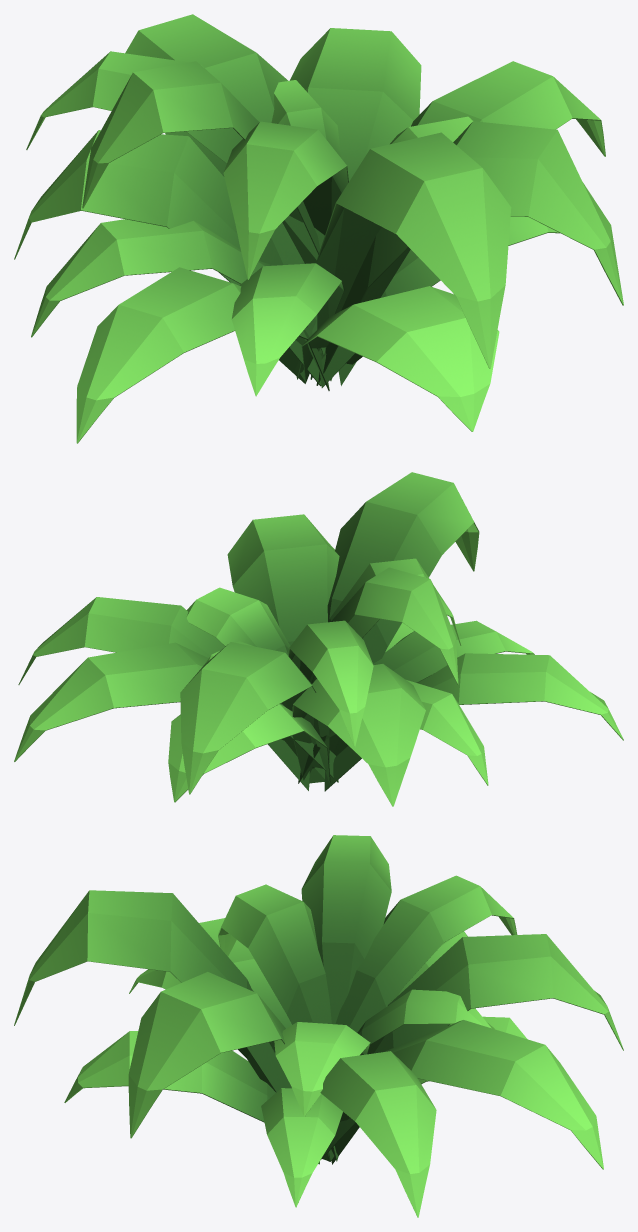
The model's file is MoitaGrande.fbx.
The picture shows the model from 3 angles, top to bottom: view 1: azimuth 30°, elevation 25°; view 2: azimuth 150°, elevation 25°; view 3: azimuth 270°, elevation 25°; orthographic projection. The views are drawn at different scales.
Visible parts, largest first — view 1: MoitaGrande; view 2: MoitaGrande; view 3: MoitaGrande.
Boxes of the visible parts, x1,y1,x2,y2 form: MoitaGrande: (14,14,623,443); MoitaGrande: (14,472,623,806); MoitaGrande: (14,835,623,1217).
Bounding box in the file's own units: 135 × 62.82 × 131.
